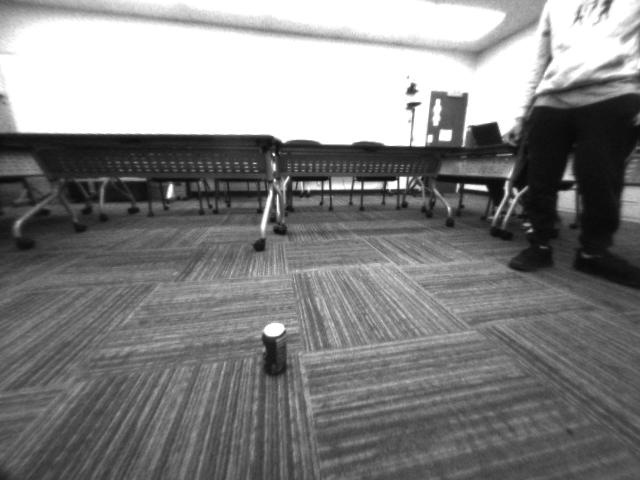can: (258, 316, 289, 380)
